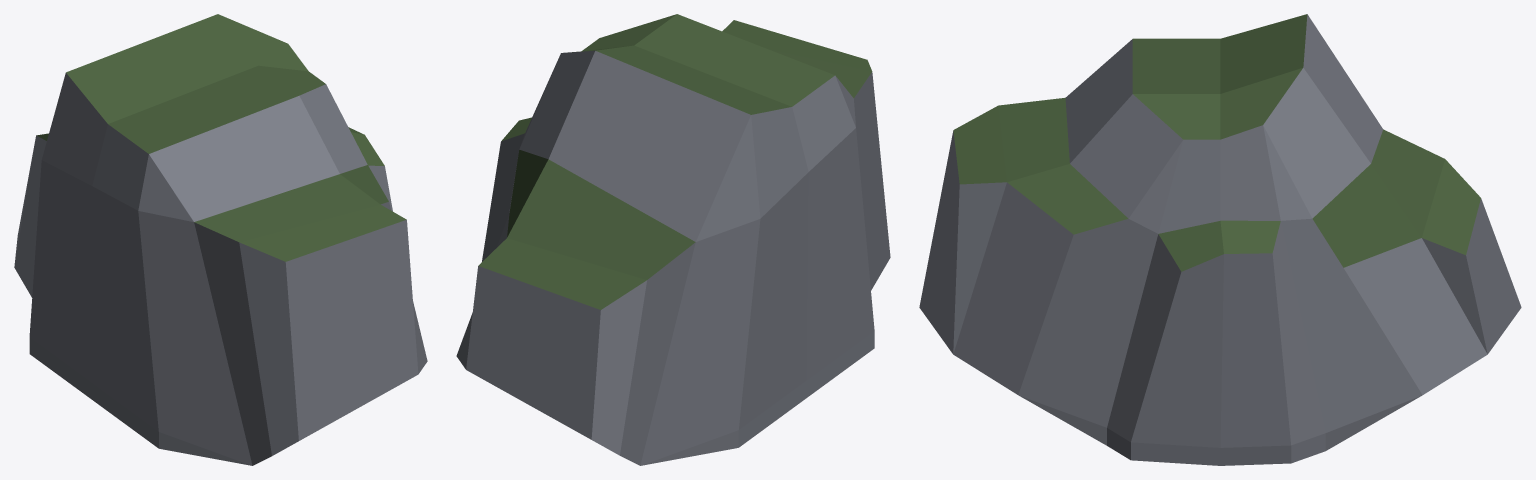
The model's file is Rock_Moss_4.glb.
3 renders of one model, left to right at view 1: azimuth 30°, elevation 25°; view 2: azimuth 150°, elevation 25°; view 3: azimuth 270°, elevation 25°, orthographic. The views are drawn at different scales.
Visible parts, largest first — view 1: Rock_Moss_4_Cube.023; view 2: Rock_Moss_4_Cube.023; view 3: Rock_Moss_4_Cube.023.
Part boxes in pixels (left/top/right/bottom): Rock_Moss_4_Cube.023: left=14, top=14, right=427, bottom=465; Rock_Moss_4_Cube.023: left=456, top=14, right=890, bottom=465; Rock_Moss_4_Cube.023: left=919, top=14, right=1521, bottom=465.
Size of the model in its own units: 0.7435 by 0.7837 by 1.25.
